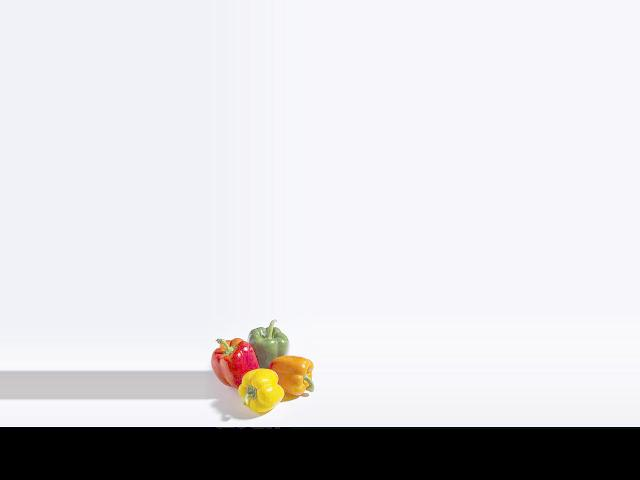bell_pepper: (209, 333, 258, 388)
